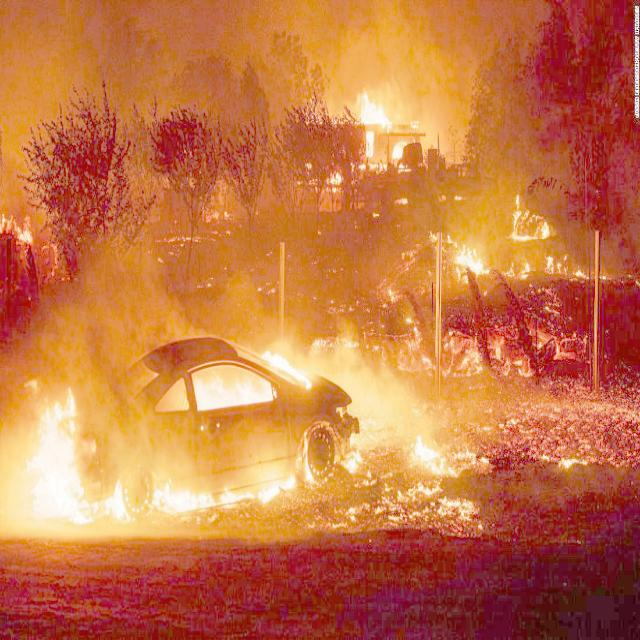api: (27, 370, 91, 532), (153, 462, 305, 518), (193, 367, 283, 414), (262, 351, 318, 394), (356, 80, 394, 141), (358, 91, 397, 133), (455, 234, 489, 278), (105, 477, 130, 528), (11, 215, 43, 251), (412, 435, 444, 467), (301, 433, 315, 487), (558, 447, 586, 474), (362, 123, 379, 156), (394, 137, 409, 171)
asap: (315, 5, 481, 169)
